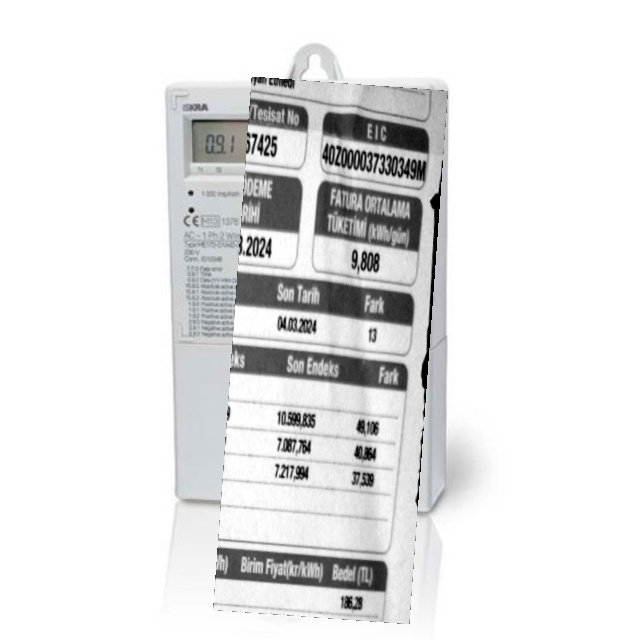electricity-bill: (212, 76, 448, 624)
